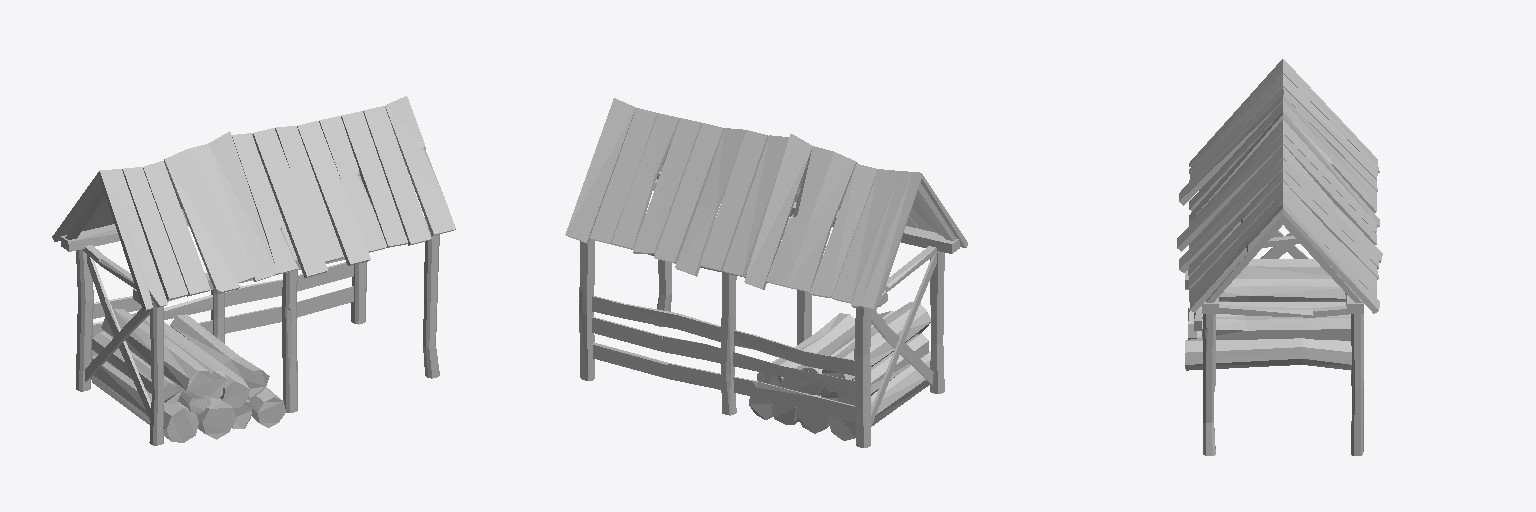
Rendered from Barn_Wood.obj.
3 renders of one model, left to right at view 1: azimuth 30°, elevation 25°; view 2: azimuth 150°, elevation 25°; view 3: azimuth 270°, elevation 25°, orthographic.
Parts seen in each view (by area): view 1: Barn_Wood; view 2: Barn_Wood; view 3: Barn_Wood.
Boxes of the visible parts, box(x1,y1,x2,y2) form: Barn_Wood: box(52, 96, 455, 445); Barn_Wood: box(565, 98, 967, 447); Barn_Wood: box(1177, 59, 1382, 455).
Size of the model in its own units: 5.15 by 4.11 by 2.96.